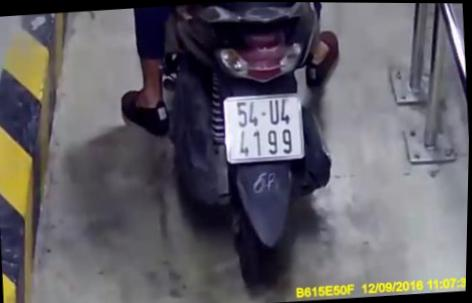LP: (222, 91, 306, 163)
